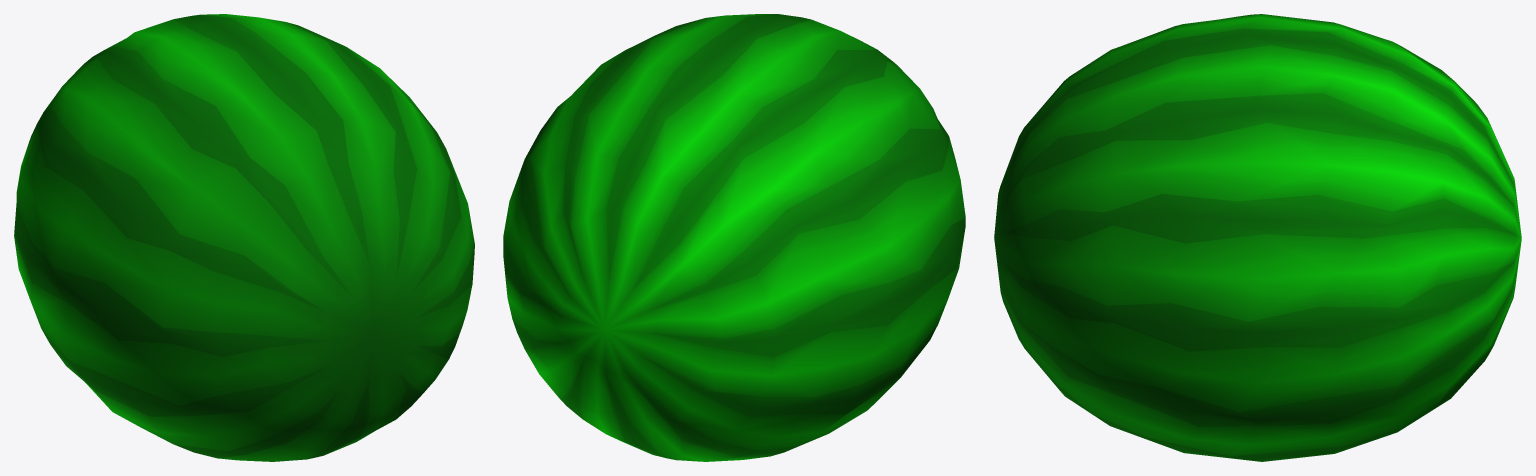
File: watermelon.fbx
The picture shows the model from 3 angles, left to right: view 1: azimuth 30°, elevation 25°; view 2: azimuth 150°, elevation 25°; view 3: azimuth 270°, elevation 25°; orthographic projection. The views are drawn at different scales.
Parts seen in each view (by area): view 1: watermelon; view 2: watermelon; view 3: watermelon.
Boxes of the visible parts, bbox=[...] form: watermelon: bbox=[14, 14, 474, 461]; watermelon: bbox=[503, 14, 965, 461]; watermelon: bbox=[994, 14, 1521, 461].
Bounding box in the file's own units: 25.57 × 25.54 × 30.1.
